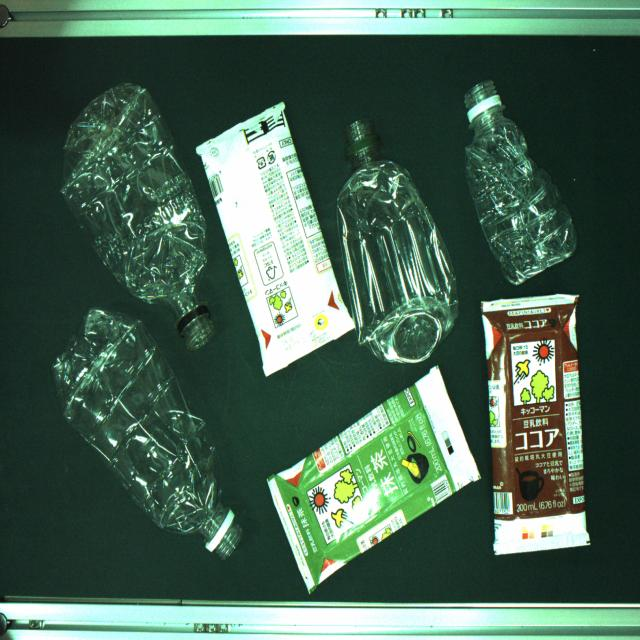Aluminium Foil: (265, 374, 474, 597), (191, 101, 353, 367), (476, 293, 594, 554)
Transparent Plastic Bottle: (52, 309, 246, 561), (62, 81, 212, 345), (328, 111, 457, 360), (463, 70, 580, 282)
